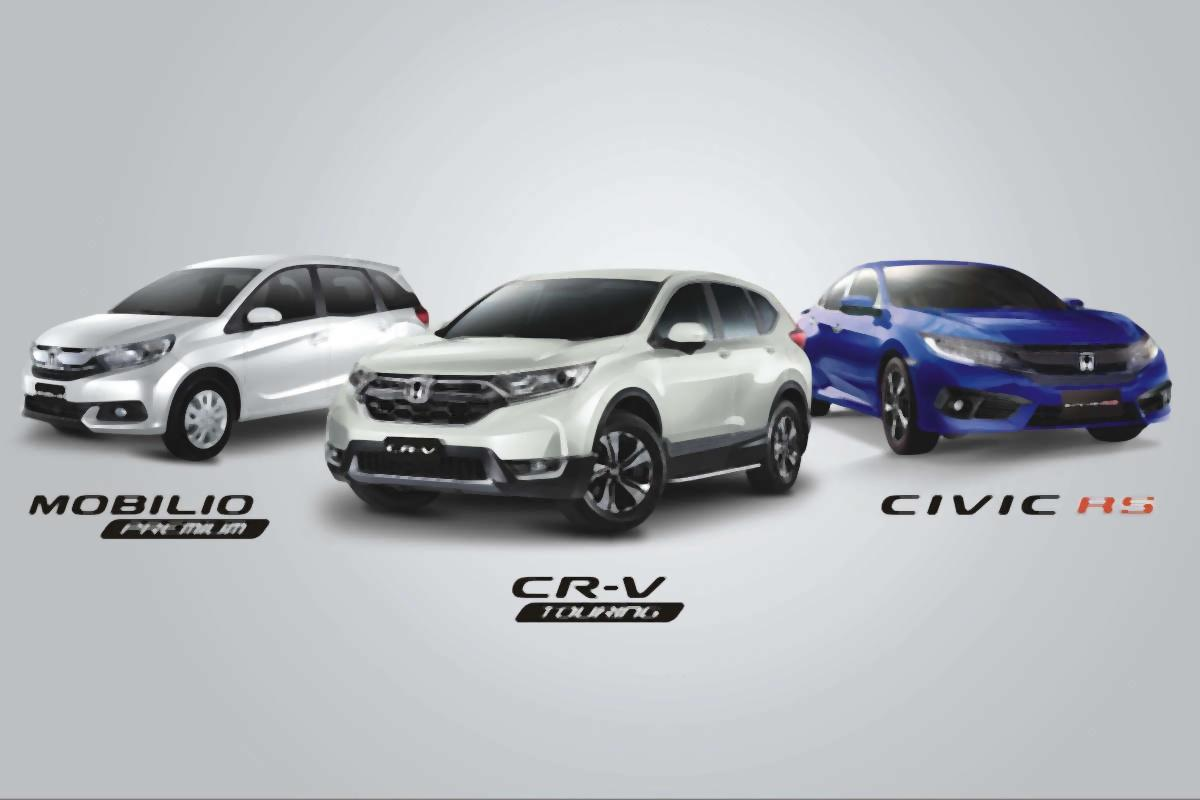Car hood: (891, 296, 1158, 350), (351, 326, 619, 376), (30, 305, 204, 354)
Driver-s door - -F-R-: (830, 253, 899, 421)
Fender - -F-L-: (568, 330, 675, 503), (162, 318, 254, 435)
Fender - -F-R-: (865, 299, 943, 427)
Fender - -R-L-: (756, 289, 818, 460)
Front bumper: (324, 384, 607, 505), (904, 359, 1182, 441), (16, 358, 190, 436)
Headlight - -L-: (489, 361, 598, 400), (96, 336, 174, 375), (1126, 330, 1166, 382)
Headlight - -R-: (916, 335, 1004, 370), (335, 357, 375, 397)
Passenger-s door - -F-L-: (648, 263, 739, 486), (234, 255, 333, 431)
Passenger-s door - -R-L-: (711, 255, 787, 493), (311, 251, 394, 396)
Rear light - -L-: (784, 320, 810, 352)
Side bumper - -L-: (659, 421, 773, 515), (233, 395, 351, 444)
Side bumper - -R-: (814, 376, 884, 425)
Side mirror - -L-: (651, 318, 713, 355), (233, 303, 288, 341)
Side mirror - -R-: (839, 293, 888, 324)
